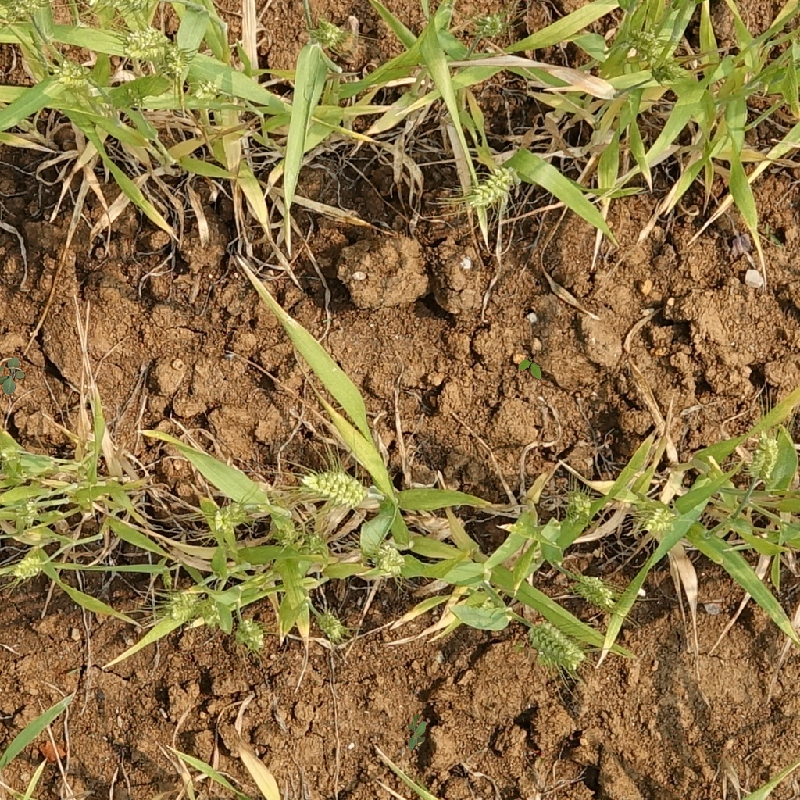spikelet: (527, 621, 585, 670), (300, 467, 369, 508), (465, 164, 519, 210), (121, 25, 175, 65), (51, 56, 100, 96), (746, 431, 781, 483), (628, 27, 673, 67), (209, 499, 251, 533), (575, 573, 616, 607), (371, 539, 406, 577), (563, 489, 595, 528), (234, 616, 267, 652), (308, 17, 345, 49), (160, 42, 190, 80), (315, 607, 347, 642), (11, 550, 47, 581), (166, 587, 199, 620), (643, 503, 677, 535), (473, 10, 508, 40), (1, 1, 43, 25), (13, 496, 40, 527), (191, 76, 223, 102), (87, 1, 159, 11)
weed: (1, 355, 33, 397), (515, 354, 546, 388), (408, 714, 426, 751)
